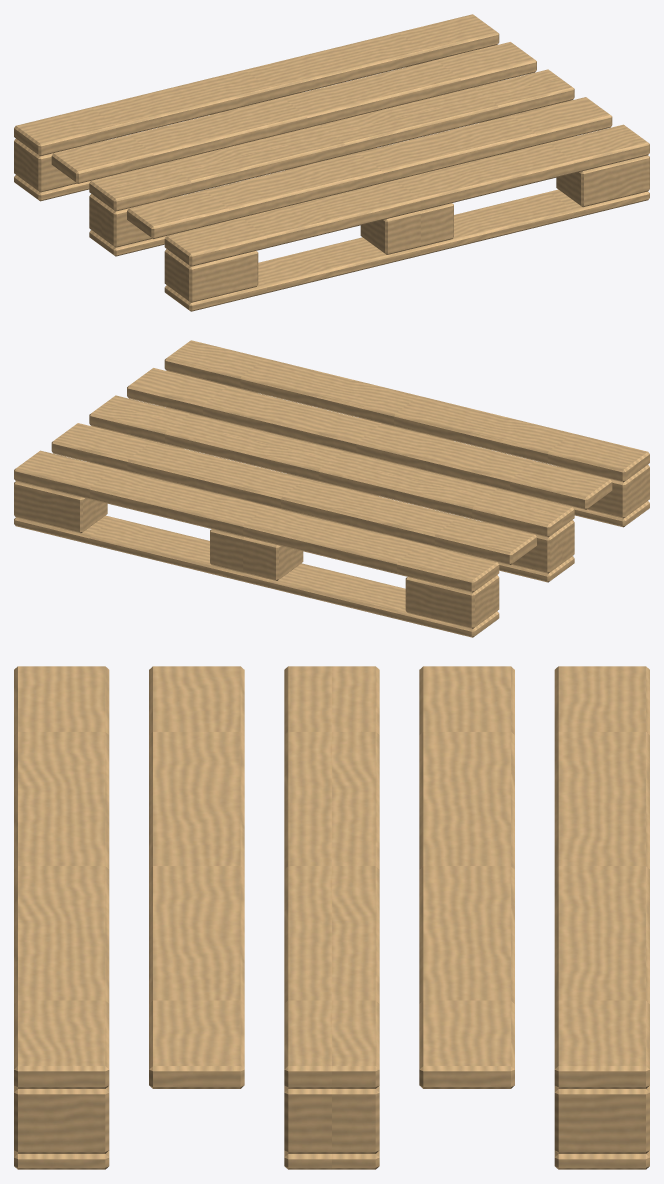
File: pallet.glb
3 views of the same model, one above another, from view 1: azimuth 30°, elevation 25°; view 2: azimuth 150°, elevation 25°; view 3: azimuth 270°, elevation 25° (orthographic). The views are drawn at different scales.
Parts seen in each view (by area): view 1: pallet.001; view 2: pallet.001; view 3: pallet.001.
Boxes of the visible parts, left/top/right/bottom form: pallet.001: left=14, top=14, right=649, bottom=311; pallet.001: left=14, top=340, right=649, bottom=637; pallet.001: left=14, top=666, right=649, bottom=1169.
Size of what is drawn, in the model's own units: 1.2 by 0.144 by 0.8.
1 material, 1 textured.
